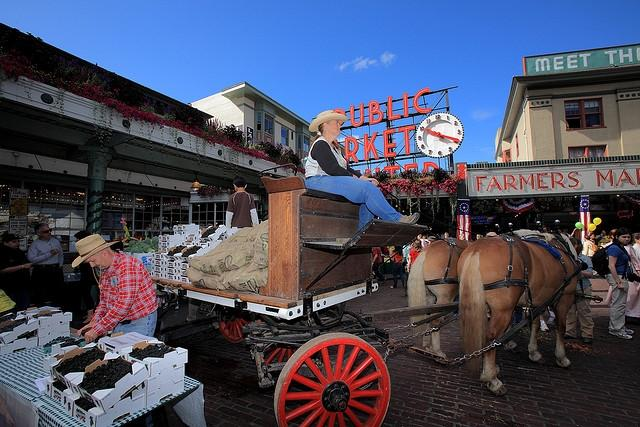grape: (98, 376, 105, 381), (99, 351, 104, 357), (89, 360, 96, 362), (134, 352, 136, 355), (76, 358, 79, 360), (26, 322, 28, 324), (61, 340, 62, 342), (140, 355, 142, 356), (114, 374, 116, 375), (125, 364, 126, 366), (14, 326, 15, 326)
